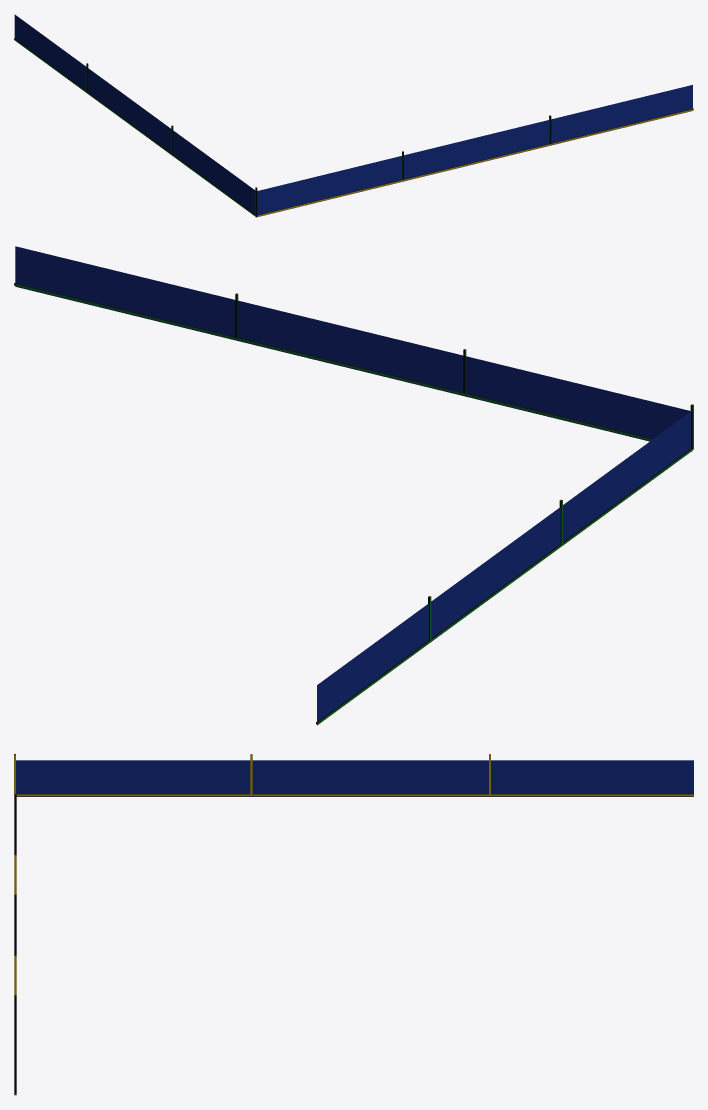
The model's file is SM_Fence.fbx.
3 renders of one model, top to bottom at view 1: azimuth 30°, elevation 25°; view 2: azimuth 150°, elevation 25°; view 3: azimuth 270°, elevation 25°, orthographic. The views are drawn at different scales.
Parts seen in each view (by area): view 1: SM_Fence; view 2: SM_Fence; view 3: SM_Fence.
Part boxes in pixels (box(x1,y1,x2,y2)): SM_Fence: box(14, 14, 693, 217); SM_Fence: box(14, 246, 693, 725); SM_Fence: box(14, 754, 693, 1095).
Size of the model in its own units: 133 by 8.77 by 128.
